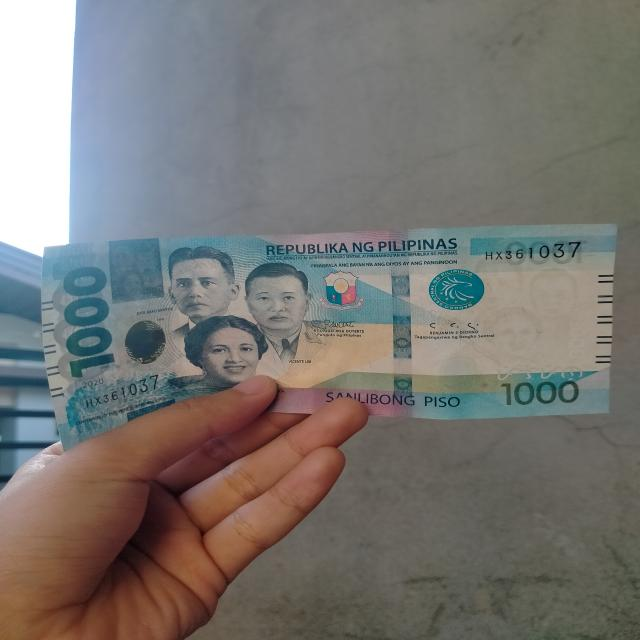concealed_value: (109, 236, 167, 306)
optically_variable_device: (118, 308, 177, 376)
security_thread: (388, 225, 417, 421)
see_through_mark: (478, 360, 595, 388)
serial_number: (469, 234, 586, 265), (80, 370, 167, 407)
value_watermark: (566, 318, 586, 359)
watermark: (468, 255, 572, 363)
